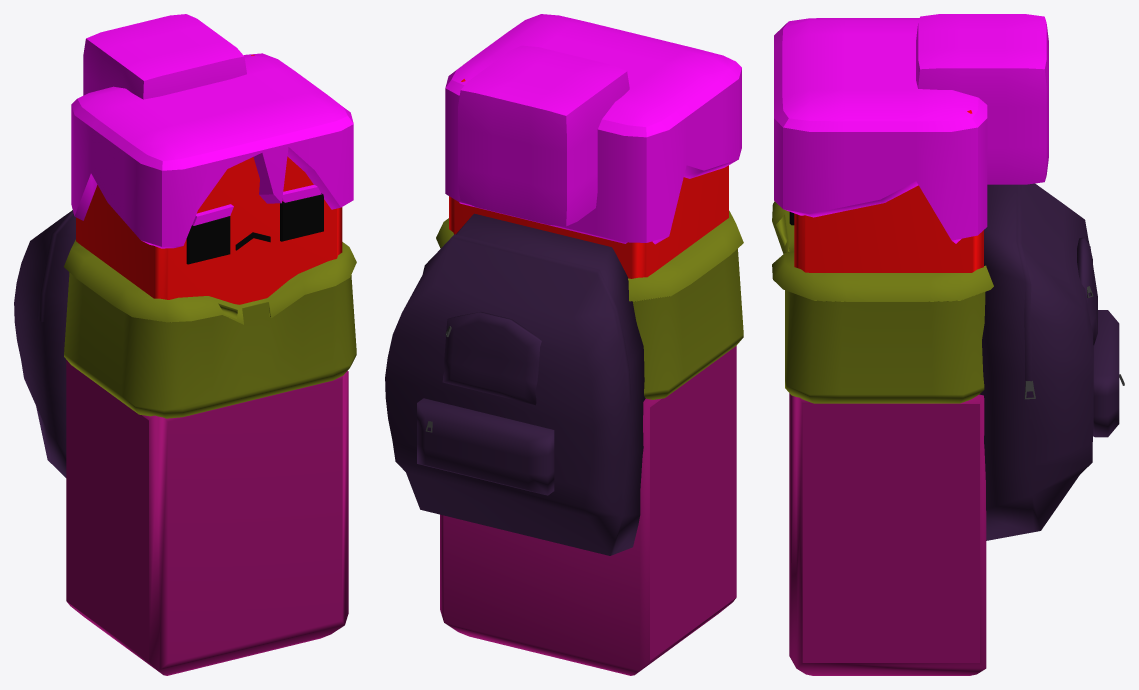
The model's file is Student F File.fbx.
3 renders of one model, left to right at view 1: azimuth 30°, elevation 25°; view 2: azimuth 150°, elevation 25°; view 3: azimuth 270°, elevation 25°, orthographic. The views are drawn at different scales.
Parts seen in each view (by area): view 1: Student_F_Hair1 (×7); view 2: Student_F_Hair1 (×5); view 3: Student_F_Hair1 (×5).
Boxes of the visible parts, bbox=[...] form: Student_F_Hair1 (×7): bbox=[14, 14, 356, 675]; Student_F_Hair1 (×5): bbox=[385, 14, 743, 675]; Student_F_Hair1 (×5): bbox=[772, 14, 1119, 675].
Size of the model in its own units: 100 by 231 by 124.
